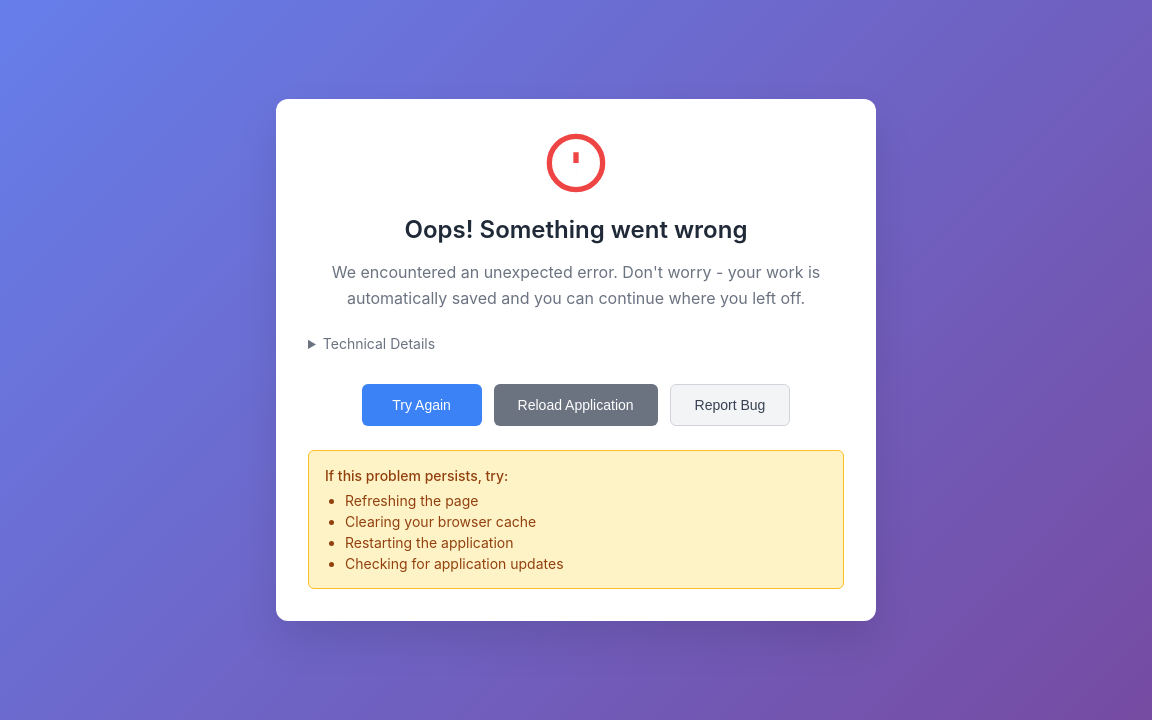
Test: ErrorBoundary › shows technical details when expanded
Click the heading "Technical Details" at (379, 344), box [323,335,435,352]
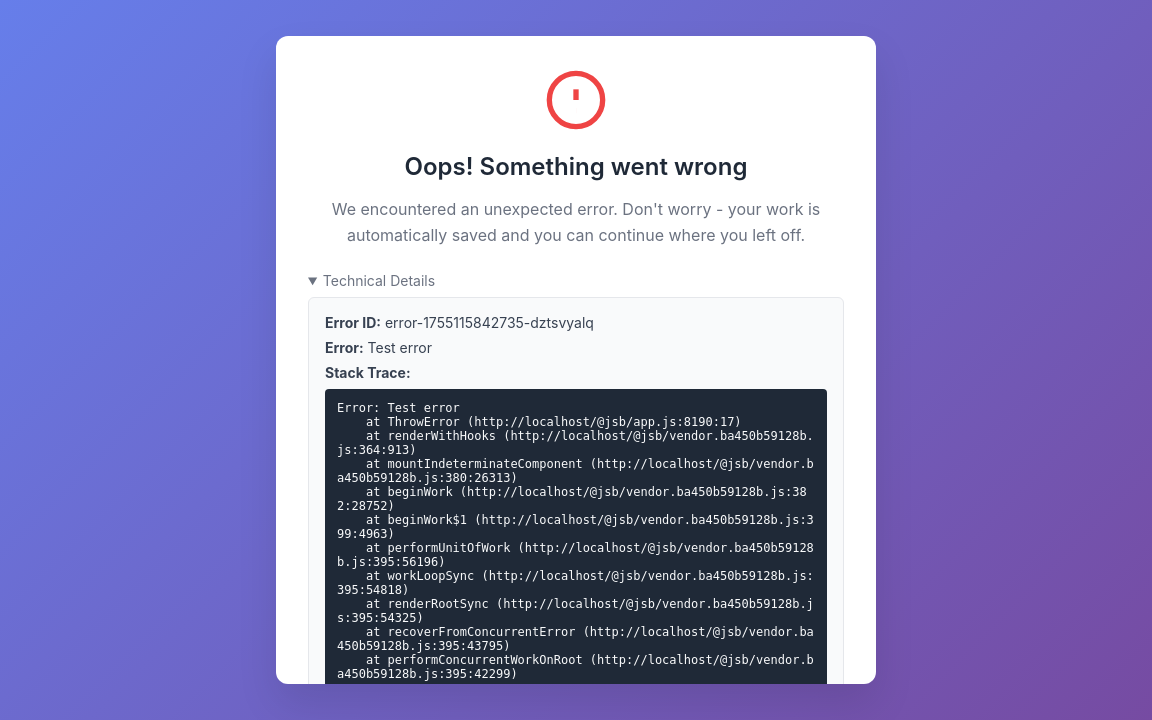
Expected: the text "Test error" is shown, [368,339,432,356]
